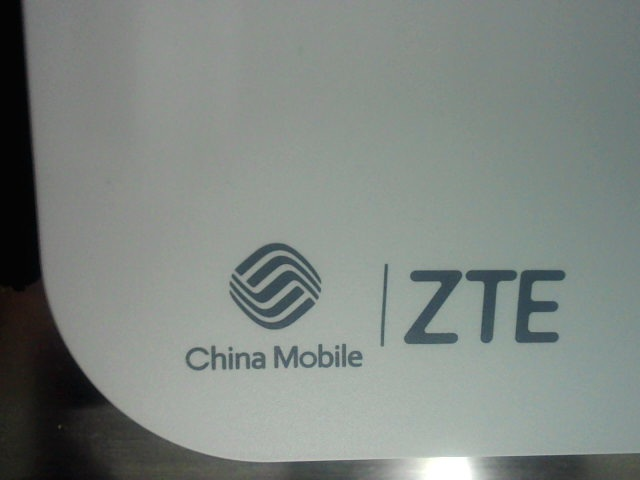AL_ZTEChinaMobile: (155, 239, 579, 373)
